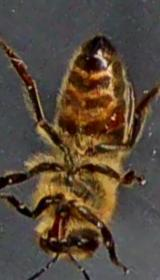varroa_mite: (100, 102, 126, 132)
